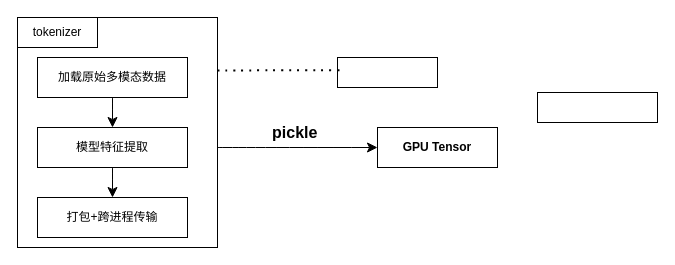
The diagram is 675 pixels wide and 265 high, and some of its shapes have lost their labels. The shapes that lost their labels are listed below. From the top down, each one's centre as x and y in pixels, then its label:
At pixel 387 72: "IPC拷贝".
At pixel 597 107: "冗余GPU内存拷贝".
